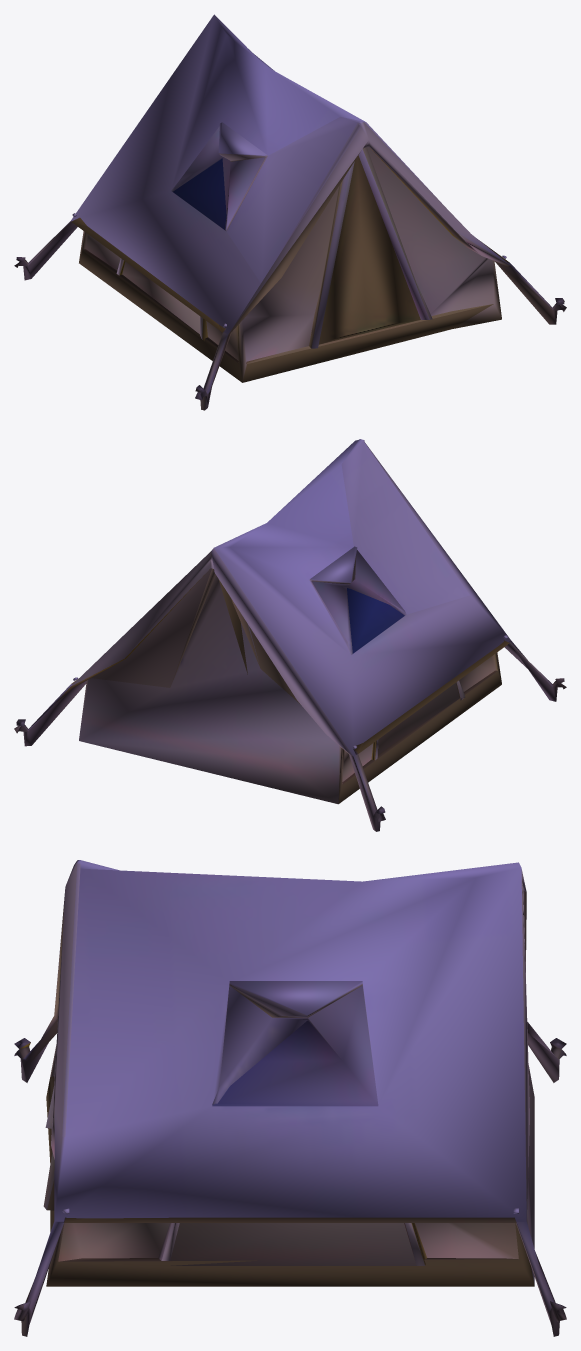
File: model.progressive.glb
The picture shows the model from 3 angles, top to bottom: view 1: azimuth 30°, elevation 25°; view 2: azimuth 150°, elevation 25°; view 3: azimuth 270°, elevation 25°; orthographic projection. The views are drawn at different scales.
Visible parts, largest first — view 1: material; view 2: material; view 3: material.
Boxes of the visible parts, x1,y1,x2,y2 form: material: [14, 14, 566, 410]; material: [14, 439, 566, 831]; material: [14, 860, 566, 1336].
Size of the model in its own units: 1.9 by 1.13 by 1.64.
Materials: 1 (1 with a texture image).
